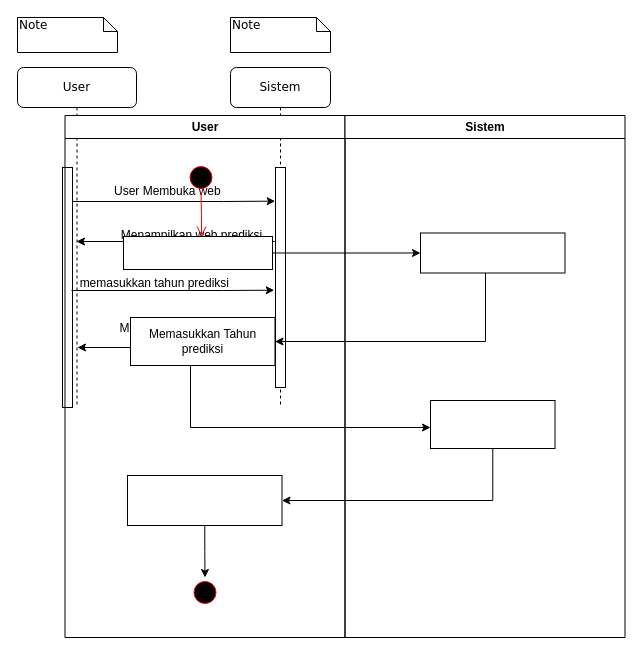
Image size: 643x655. Some labels were removed from this diagram. The shapes that lost their labels are listed below. From the top down, each one's centre as x and y in pixels, then its label:
(x=197, y=253): User membuka browser
(x=492, y=252): browser terbuka dan menampilkan halaman
(x=492, y=424): browser menampilkan hasil prediksi
(x=204, y=500): User dapat melihat hasil prediksi
